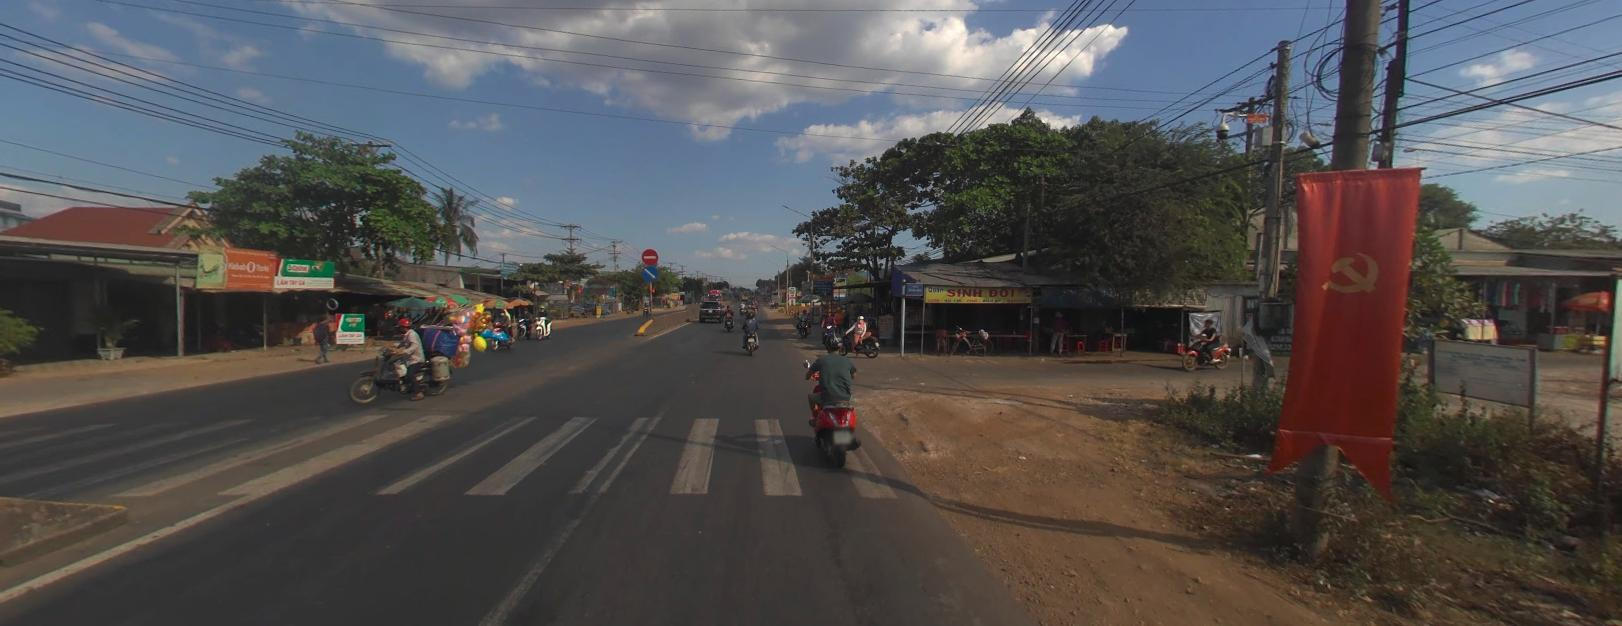Cam nguoc chieu: (641, 247, 656, 262)
Hieu lenh: (642, 264, 658, 279)
